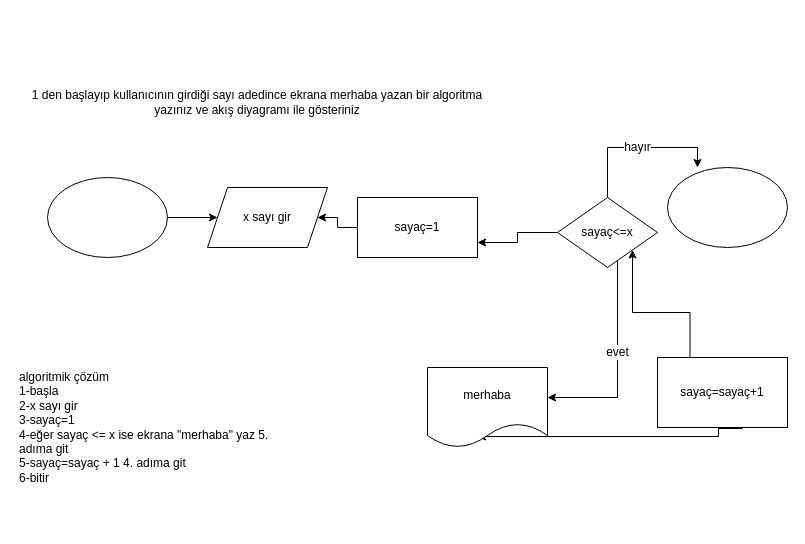
The diagram is 805 pixels wide and 544 high, and some of its shapes have lost their labels. Each missing label, with the centre of its shape:
başla: [107,217]
bitir: [727,207]
